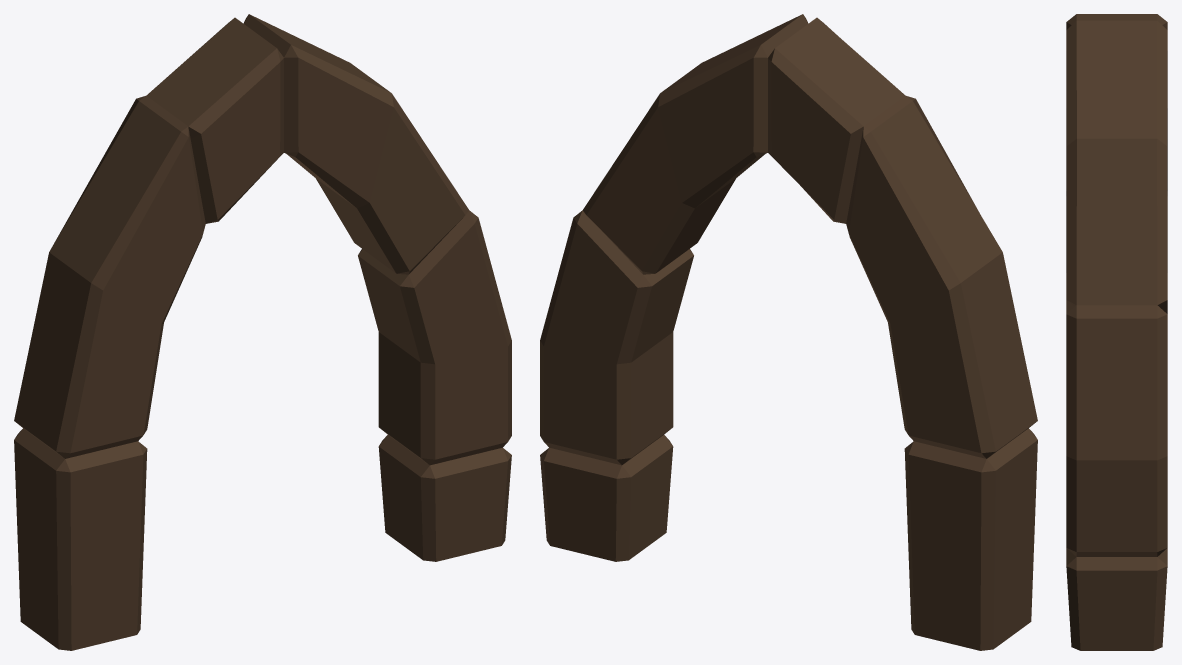
File: Ruin_2_Dark_Brown.fbx
3 renders of one model, left to right at view 1: azimuth 30°, elevation 25°; view 2: azimuth 150°, elevation 25°; view 3: azimuth 270°, elevation 25°, orthographic. The views are drawn at different scales.
Parts seen in each view (by area): view 1: Ruin_2_Dark_Brown; view 2: Ruin_2_Dark_Brown; view 3: Ruin_2_Dark_Brown.
Part boxes in pixels (bbox=[...]): Ruin_2_Dark_Brown: bbox=[14, 14, 511, 650]; Ruin_2_Dark_Brown: bbox=[540, 14, 1037, 650]; Ruin_2_Dark_Brown: bbox=[1066, 14, 1167, 650].
Bounding box in the file's own units: 500 × 577 × 100.
